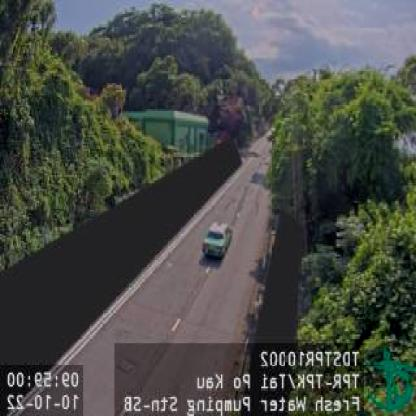Car: (201, 219, 233, 256)
